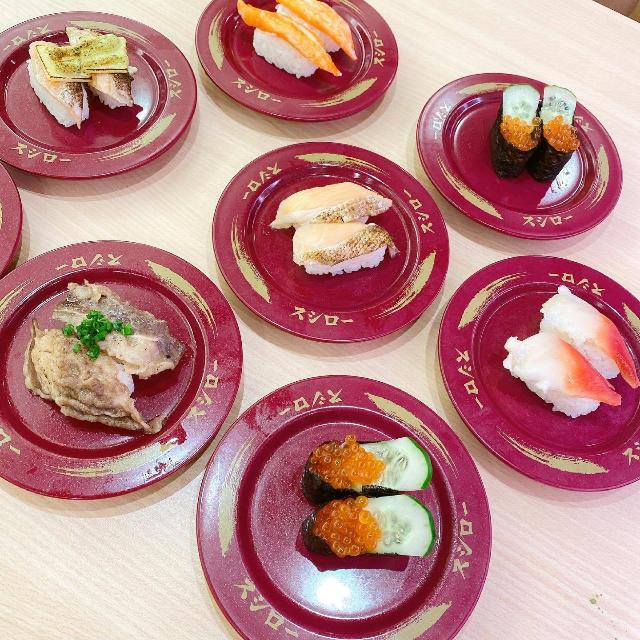janred: (222, 391, 484, 638), (0, 241, 243, 490), (233, 145, 453, 336), (441, 248, 640, 454), (0, 11, 188, 162), (417, 86, 635, 212), (199, 0, 404, 113), (0, 157, 24, 280)
